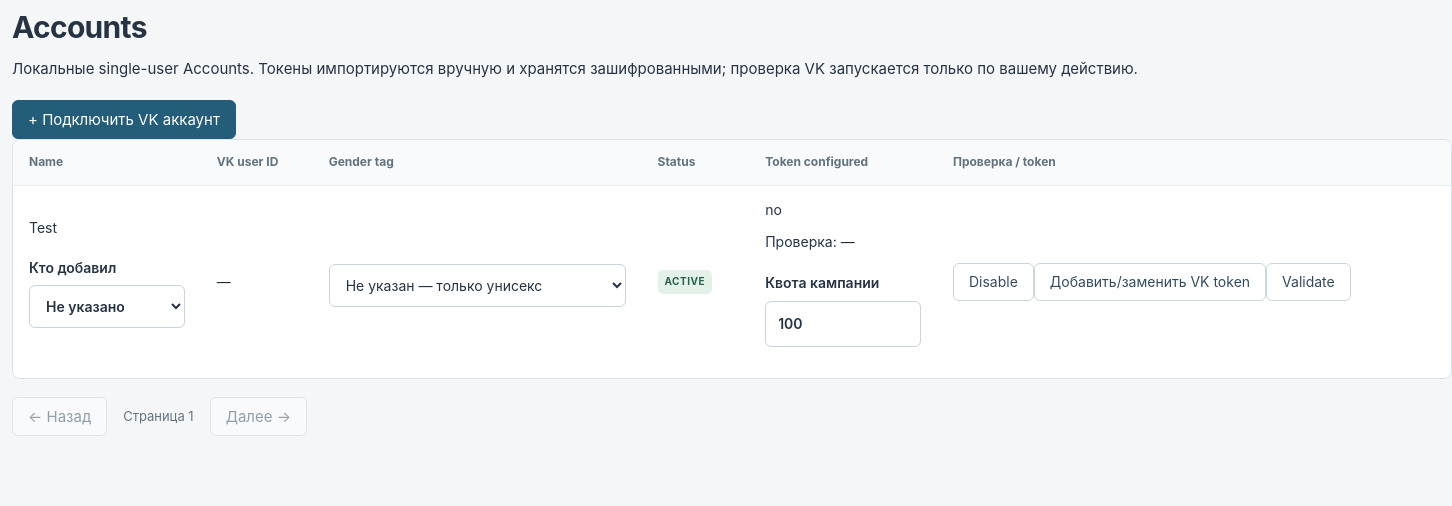
displays unconfigured credentials without backend dump
The width and height of the screenshot is (1452, 506).
Click the button "Validate" at (1308, 282), box [1266, 263, 1351, 301]
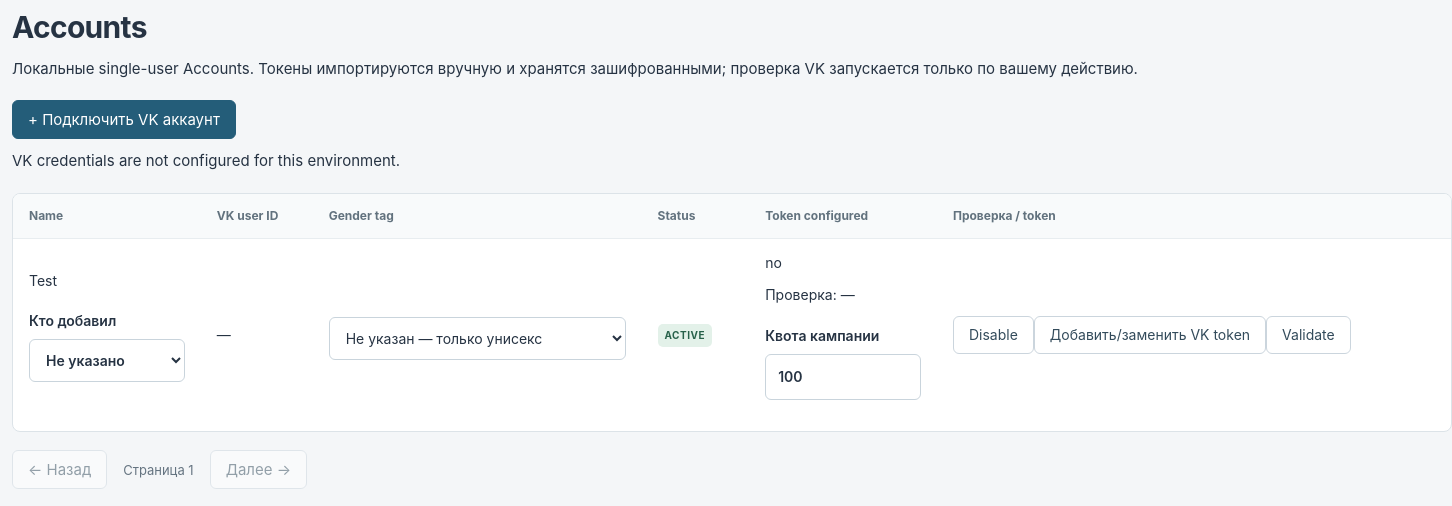
Expected: the text "VK credentials are not configured for this environment." is shown, [12, 151, 400, 170]
